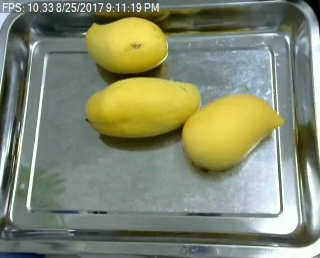Mango: (182, 91, 284, 173), (83, 75, 204, 141), (81, 15, 168, 77)
